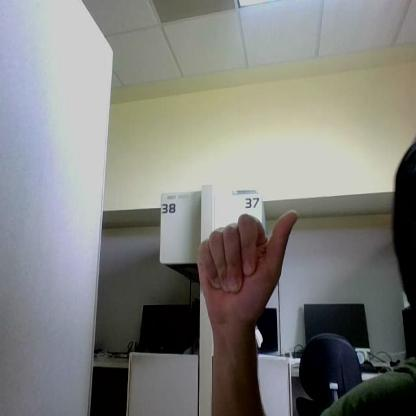A: (198, 210, 297, 320)
